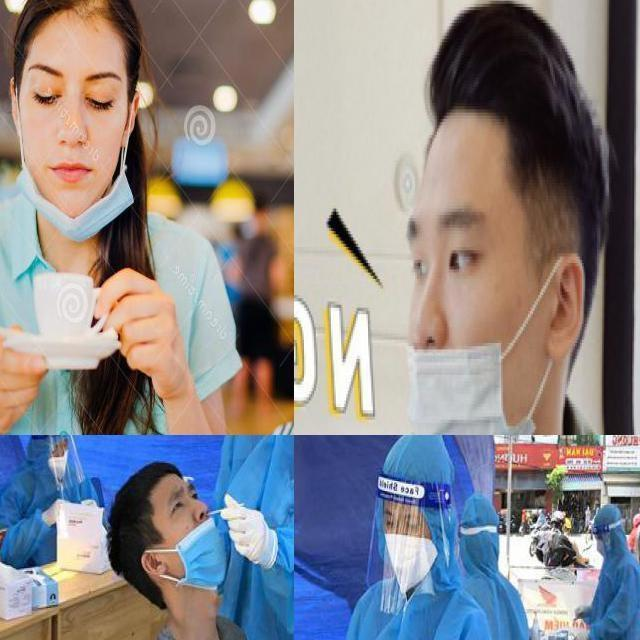hairnet: (406, 189, 497, 434), (20, 60, 126, 241), (166, 483, 228, 588)
mask: (378, 512, 444, 602)
no_gloves: (417, 1, 610, 207), (8, 0, 148, 102), (104, 458, 184, 592)
